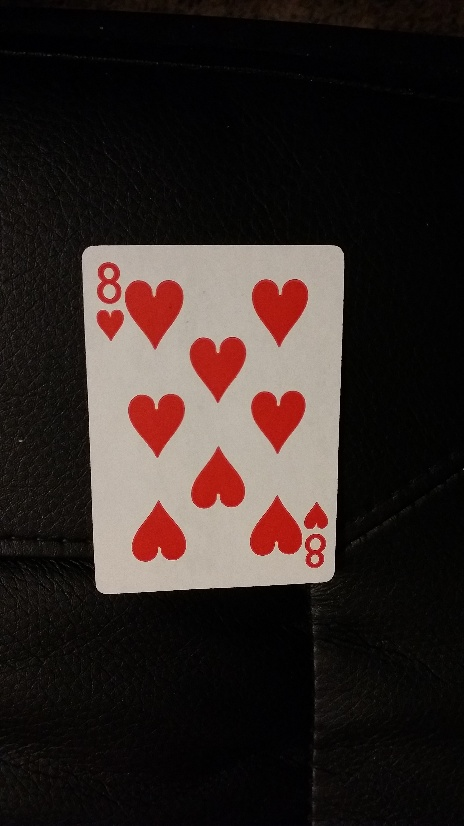H8: (91, 256, 126, 343), (301, 497, 330, 570)
